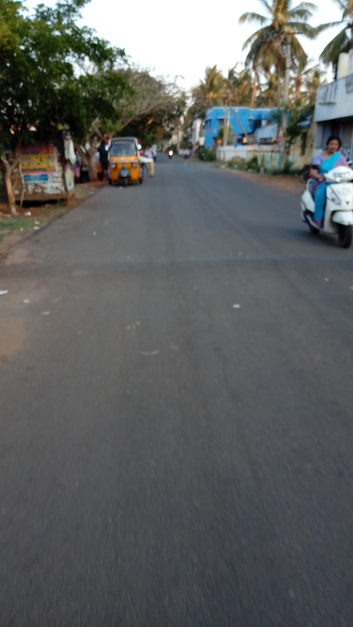bump: (1, 251, 353, 296)
